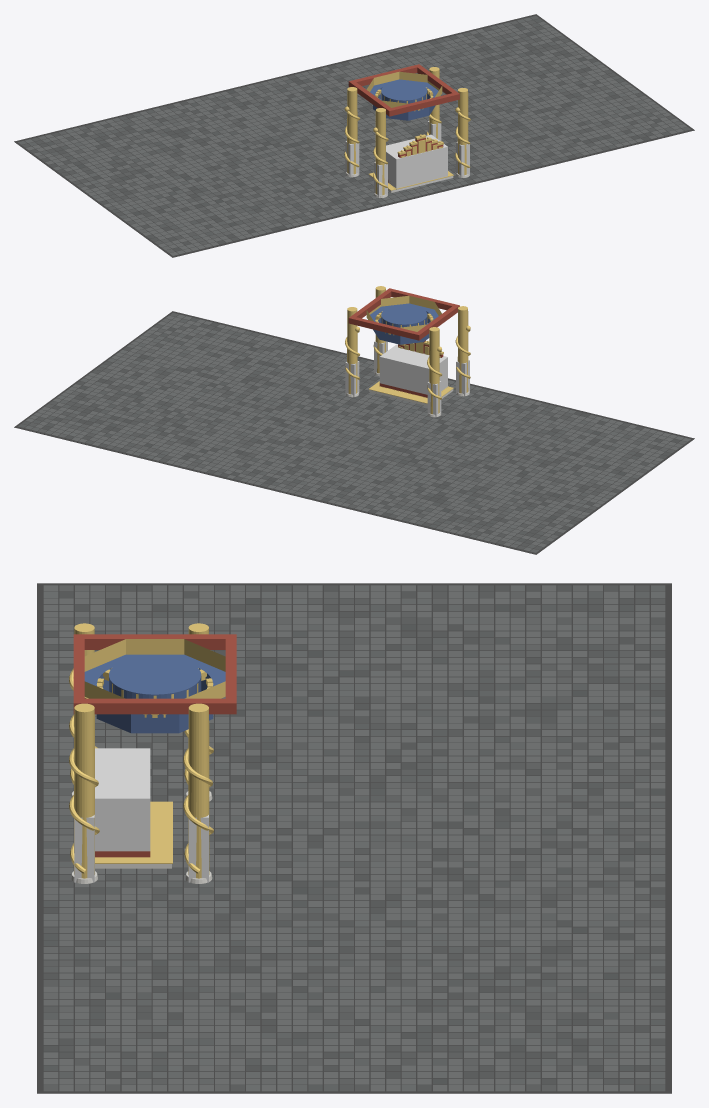
Rendered from huangji-aligned-0a79ec49e8cd.glb.
3 renders of one model, top to bottom at view 1: azimuth 30°, elevation 25°; view 2: azimuth 150°, elevation 25°; view 3: azimuth 270°, elevation 25°, orthographic. The views are drawn at different scales.
Parts seen in each view (by area): view 1: floor_tiles, floor_base, merged_gold_lacquer, COL_dais, merged_red_lacquer, merged_caisson_blue; view 2: floor_tiles, floor_base, merged_gold_lacquer, COL_dais, merged_red_lacquer, merged_caisson_blue; view 3: floor_tiles, floor_base, merged_gold_lacquer, merged_caisson_blue, COL_dais, merged_red_lacquer, COL_1, COL_3.
Part boxes in pixels (bbox=[...]): floor_tiles: bbox=[18, 16, 690, 255]; floor_base: bbox=[14, 14, 694, 257]; merged_gold_lacquer: bbox=[344, 67, 470, 195]; COL_dais: bbox=[386, 134, 447, 191]; merged_red_lacquer: bbox=[348, 64, 459, 182]; merged_caisson_blue: bbox=[370, 79, 438, 120]; floor_tiles: bbox=[18, 313, 690, 552]; floor_base: bbox=[14, 311, 694, 554]; merged_gold_lacquer: bbox=[345, 286, 470, 414]; COL_dais: bbox=[379, 344, 447, 394]; merged_red_lacquer: bbox=[348, 288, 459, 397]; merged_caisson_blue: bbox=[370, 303, 438, 344]; floor_tiles: bbox=[43, 585, 665, 1091]; floor_base: bbox=[37, 583, 671, 1093]; merged_gold_lacquer: bbox=[69, 623, 225, 878]; merged_caisson_blue: bbox=[84, 654, 225, 733]; COL_dais: bbox=[95, 748, 150, 851]; merged_red_lacquer: bbox=[73, 634, 236, 857]; COL_1: bbox=[188, 815, 208, 882]; COL_3: bbox=[74, 815, 94, 882].
Size of the model in its own units: 49.6 by 7.79 by 26.1.
